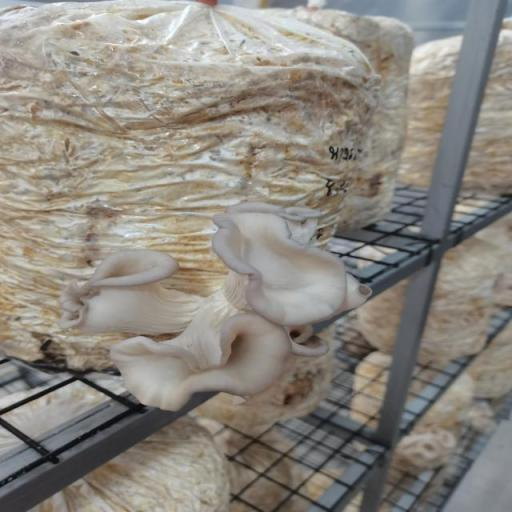White Oyster Mushroom: (61, 203, 373, 431)
